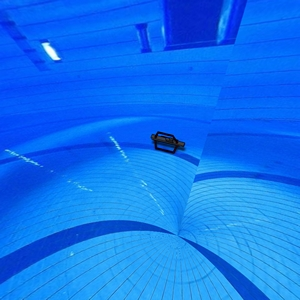submarine: (147, 130, 192, 160)
